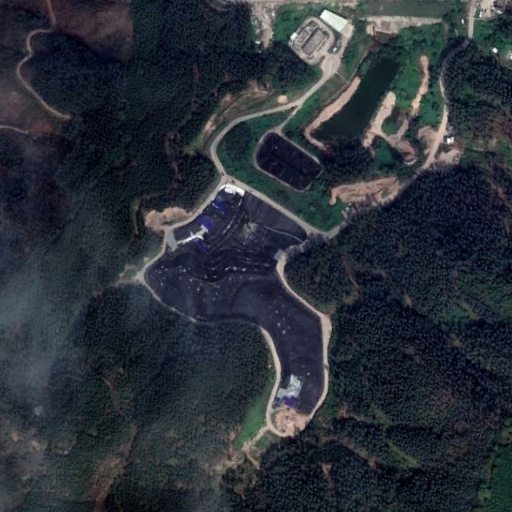lf: (146, 185, 324, 424)
